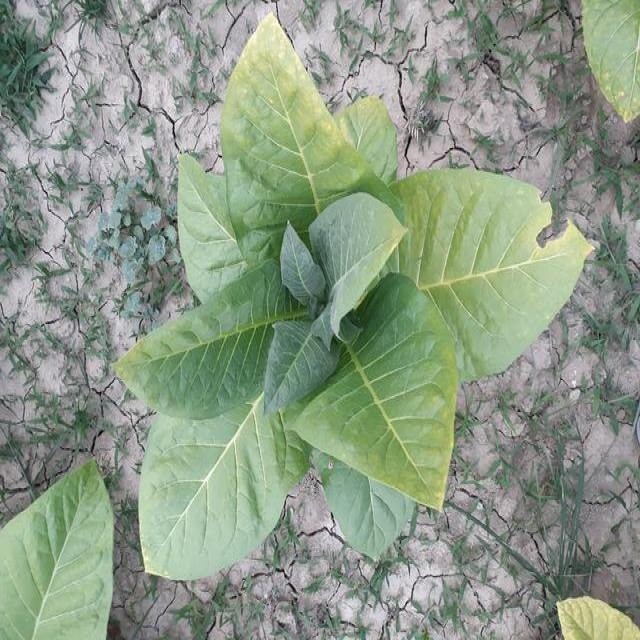crop: (125, 15, 598, 582)
